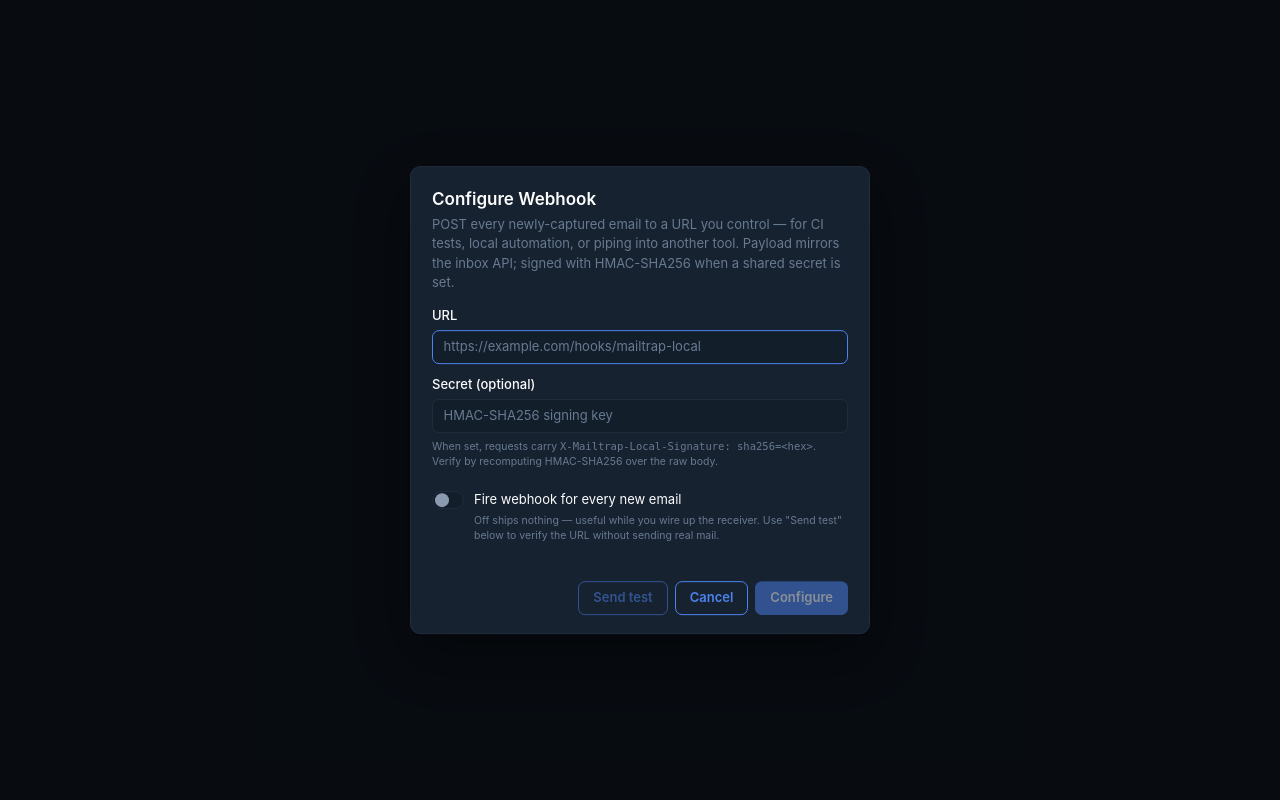
Test: WebhookConnectDialog › Configure button is disabled until URL is a valid http(s) URL
Expected: the heading "Configure Webhook" is shown, [432,189,596,209]
Expected: the button "Configure" is disabled, [755,581,848,615]
Step 1. Type "not-a-url" into the field labelled "URL" → [640, 347], box [432,330,848,364]
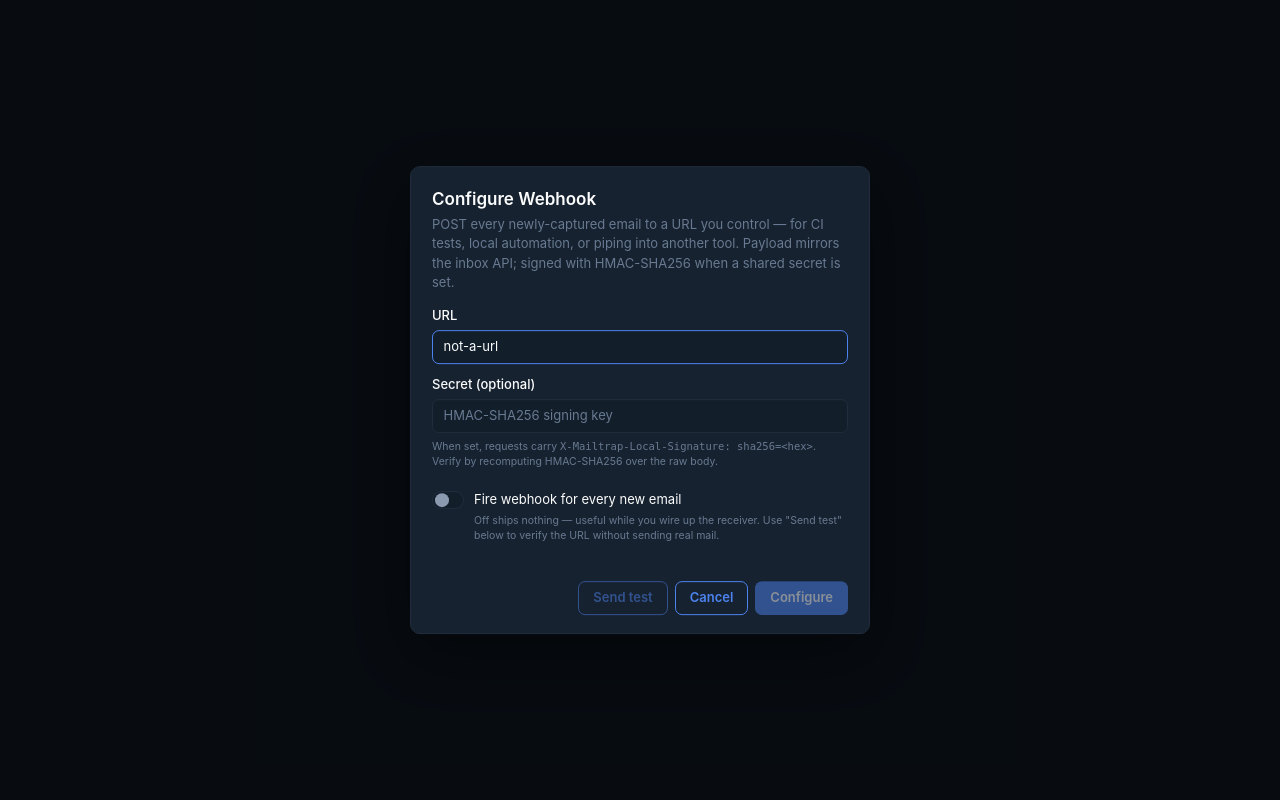
Expected: the button "Configure" is disabled, [755,581,848,615]
// Replace contents with a real URL.
Step 2. Replace the text in the field labelled "URL" with "https://hooks.example.com/x" → [640, 347], box [432,330,848,364]
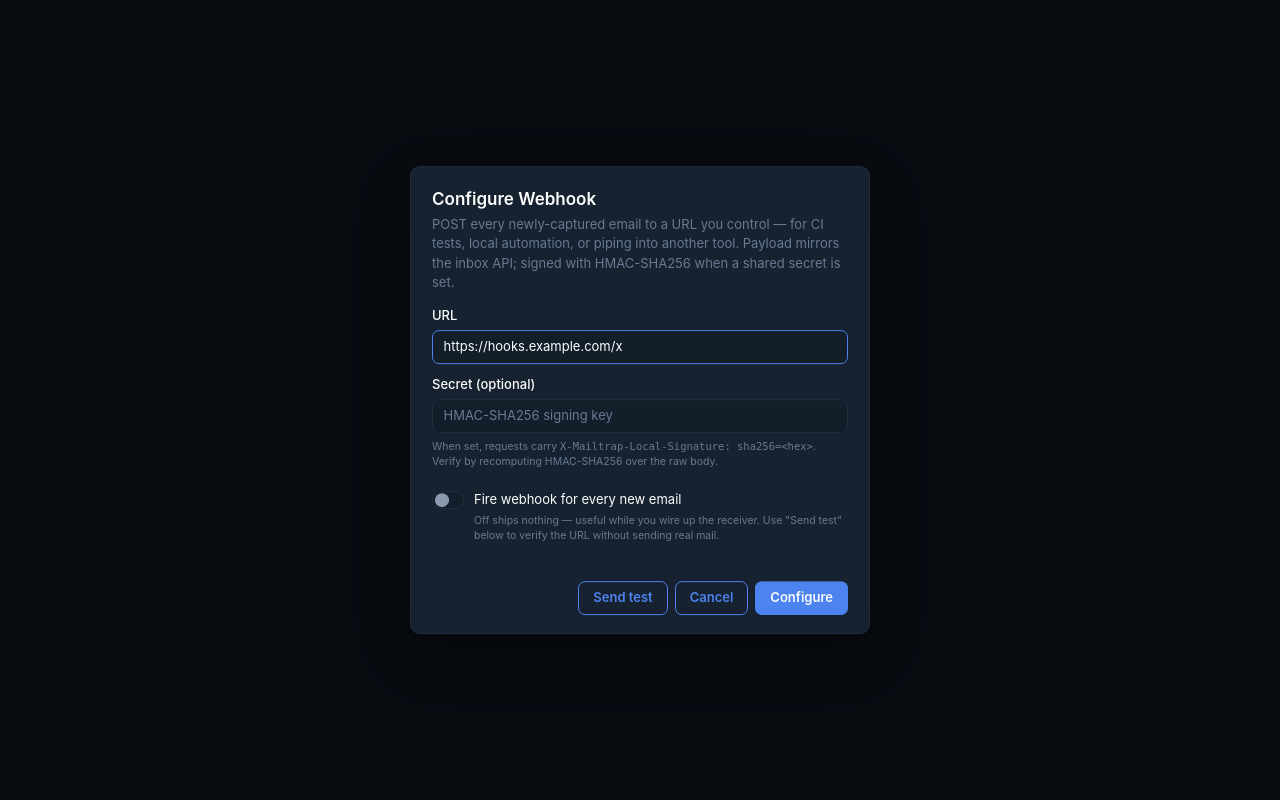
Now the button "Configure" is enabled, box [755,581,848,615]
